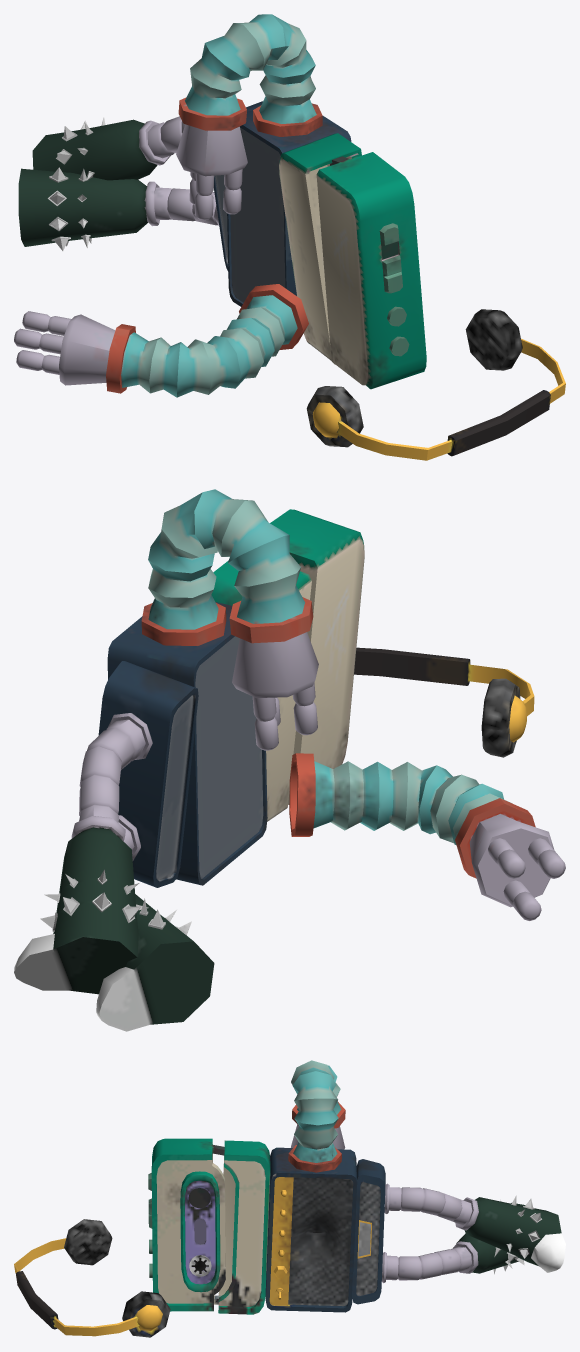
Rendered from Felix.fbx.
3 views of the same model, one above another, from view 1: azimuth 30°, elevation 25°; view 2: azimuth 150°, elevation 25°; view 3: azimuth 270°, elevation 25° (orthographic). The views are drawn at different scales.
Visible parts, largest first — view 1: Felix_008, Felix_008.001; view 2: Felix_008, Felix_008.001; view 3: Felix_008.
Boxes of the visible parts, x1,y1,x2,y2 form: Felix_008: (18,14,565,460); Felix_008.001: (14,284,308,397); Felix_008: (14,489,534,1031); Felix_008.001: (289,753,565,920); Felix_008: (14,1060,565,1337).
Size of the model in its own units: 111 by 78.64 by 171.
